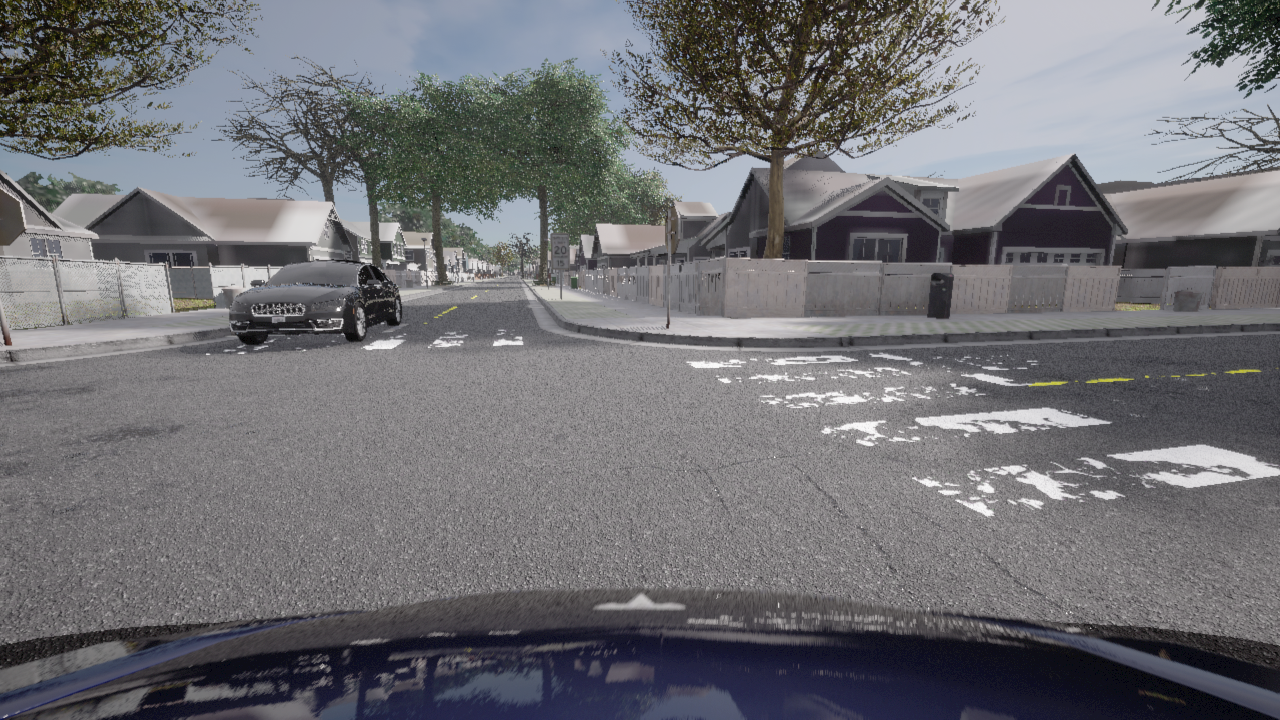cyclist: (0, 588, 1279, 719), (229, 259, 401, 344)
